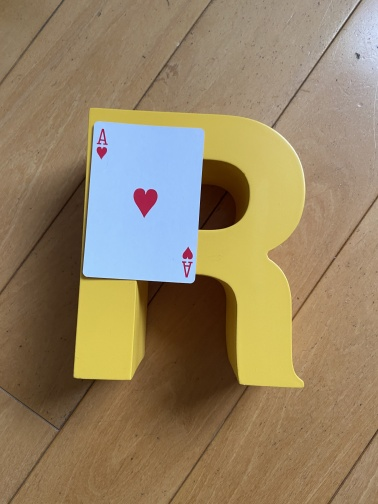ace: (81, 120, 206, 286)
